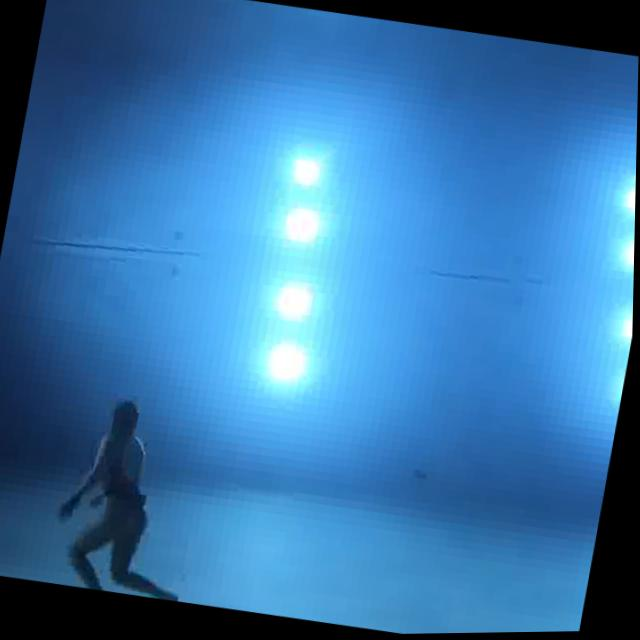human: (44, 386, 226, 605)
